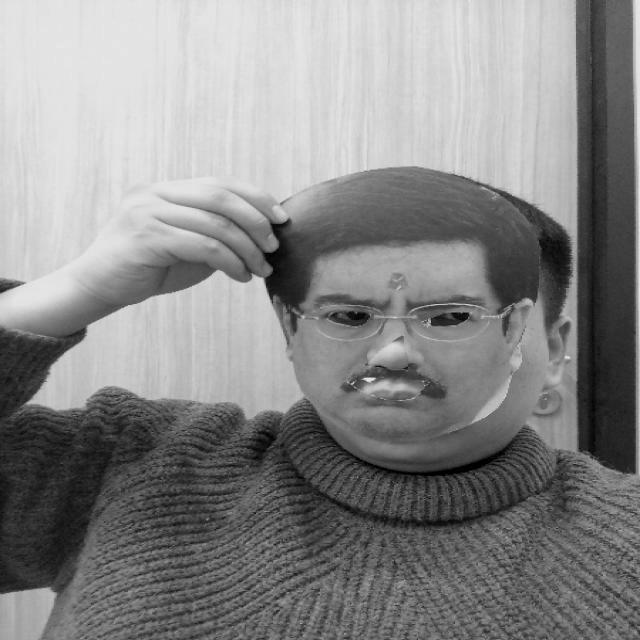real: (252, 166, 548, 441)
